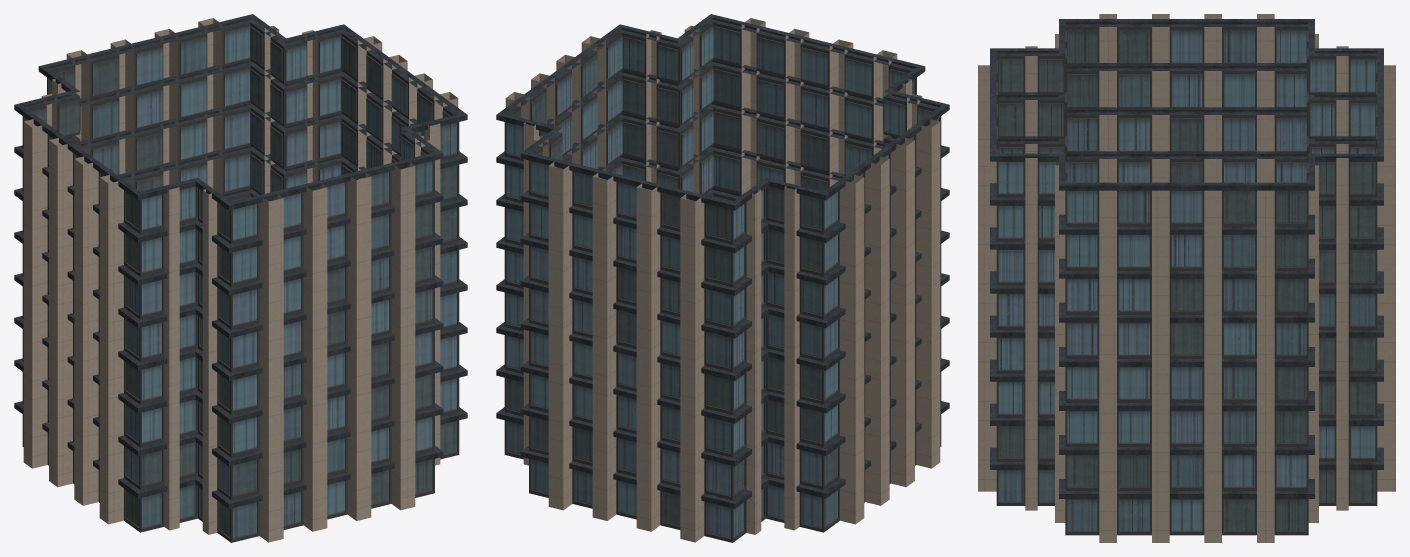
Rendered from jctBld24_B_mdl.fbx.
3 renders of one model, left to right at view 1: azimuth 30°, elevation 25°; view 2: azimuth 150°, elevation 25°; view 3: azimuth 270°, elevation 25°, orthographic. The views are drawn at different scales.
Visible parts, largest first — view 1: jctBld24_B_mdl_LOD0; view 2: jctBld24_B_mdl_LOD0; view 3: jctBld24_B_mdl_LOD0.
Boxes of the visible parts, bbox=[...] form: jctBld24_B_mdl_LOD0: bbox=[14, 14, 467, 542]; jctBld24_B_mdl_LOD0: bbox=[496, 14, 949, 542]; jctBld24_B_mdl_LOD0: bbox=[978, 14, 1395, 542].
Size of the model in its own units: 2578 by 2400 by 2578.
